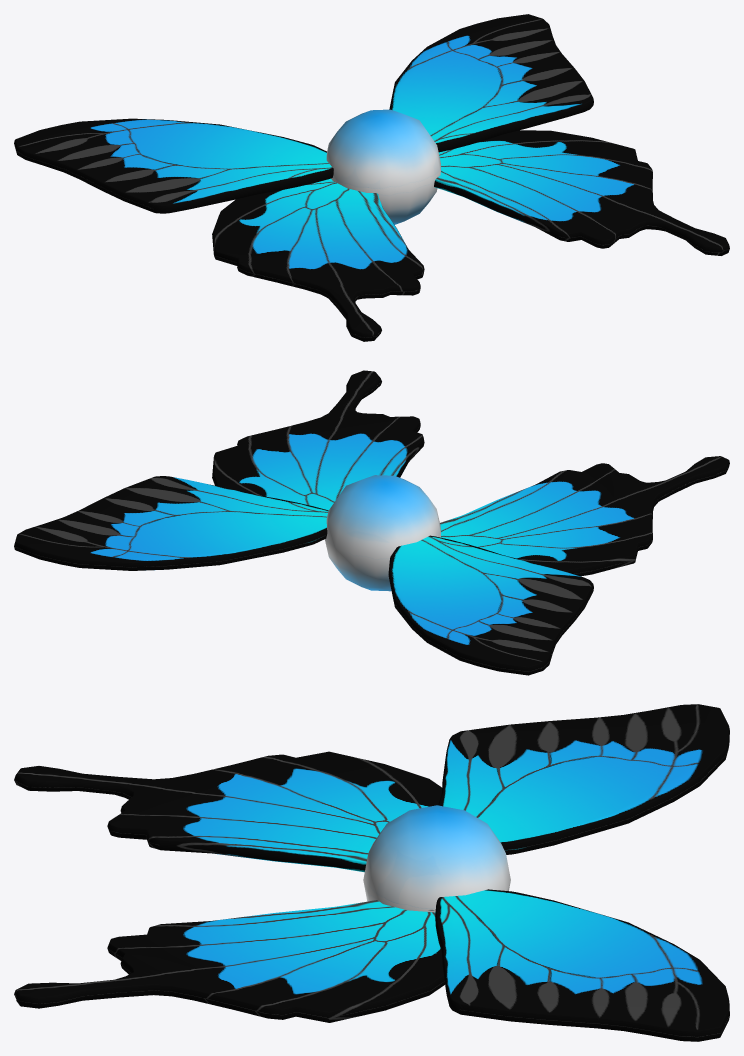
Rendered from SM_Kit.fbx.
The picture shows the model from 3 angles, top to bottom: view 1: azimuth 30°, elevation 25°; view 2: azimuth 150°, elevation 25°; view 3: azimuth 270°, elevation 25°; orthographic projection. The views are drawn at different scales.
Visible parts, largest first — view 1: SM_Wing1_R, SM_Wing2_L, SM_Wing2_R, SM_Wing1_L, SM_Kit_Body; view 2: SM_Wing1_L, SM_Wing1_R, SM_Wing2_R, SM_Wing2_L, SM_Kit_Body; view 3: SM_Wing2_L, SM_Wing1_L, SM_Wing1_R, SM_Wing2_R, SM_Kit_Body.
Part boxes in pixels (<box>): SM_Wing1_R: <box>14,118,333,213</box>; SM_Wing2_L: <box>434,130,729,255</box>; SM_Wing2_R: <box>212,178,424,341</box>; SM_Wing1_L: <box>389,14,593,152</box>; SM_Kit_Body: <box>326,109,440,224</box>; SM_Wing1_L: <box>14,476,328,570</box>; SM_Wing1_R: <box>388,535,593,675</box>; SM_Wing2_R: <box>440,456,729,576</box>; SM_Wing2_L: <box>212,370,424,510</box>; SM_Kit_Body: <box>325,475,440,591</box>; SM_Wing2_L: <box>14,900,444,1022</box>; SM_Wing1_L: <box>435,889,729,1041</box>; SM_Wing1_R: <box>438,704,729,854</box>; SM_Wing2_R: <box>14,751,441,872</box>; SM_Kit_Body: <box>363,805,510,912</box>.
Bounding box in the file's own units: 60.93 × 11.58 × 56.15.
1 material, 1 textured.
